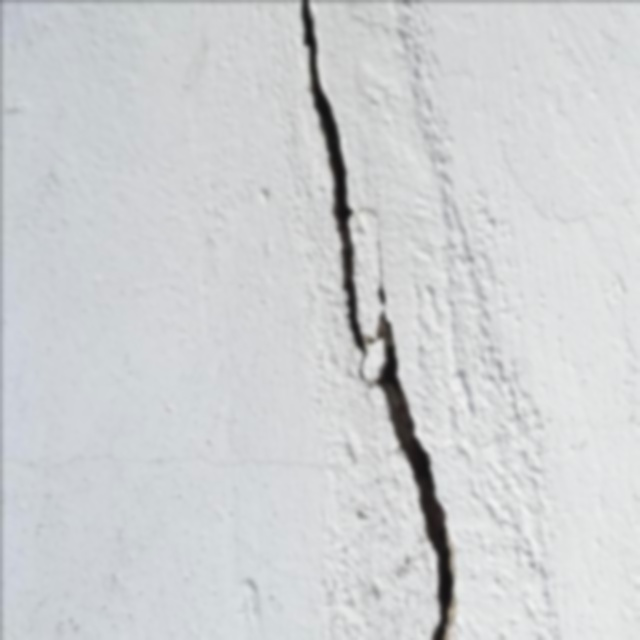SurfaceCrack: (266, 0, 477, 640)
